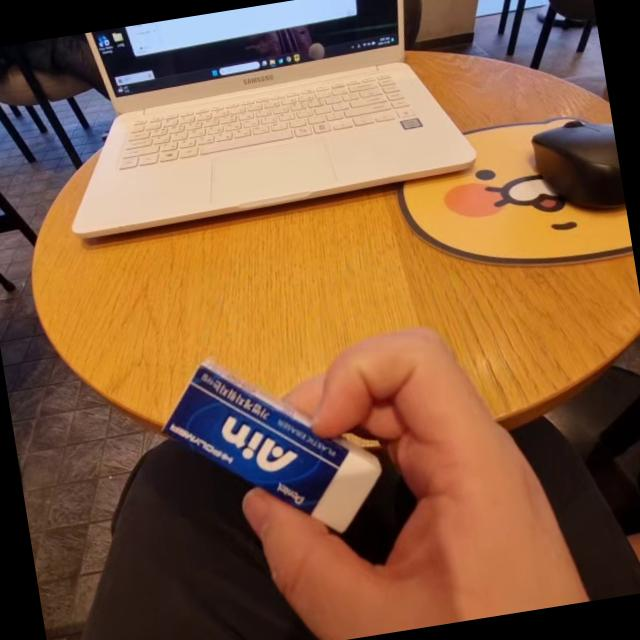eraser: (146, 337, 374, 536)
grab_eraser: (162, 305, 573, 640)
hand: (284, 334, 545, 640)
mouse: (509, 117, 628, 235)
